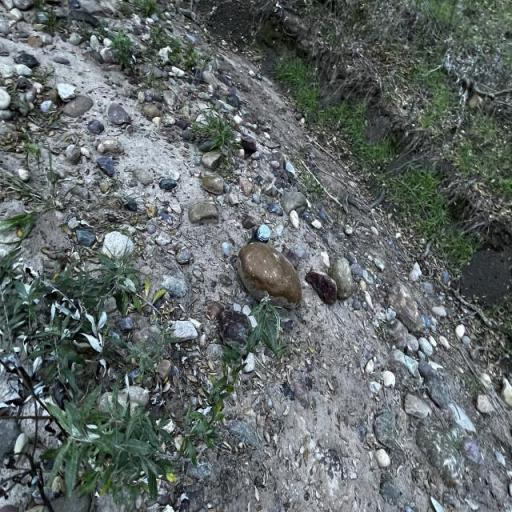bottle: (246, 224, 270, 244)
